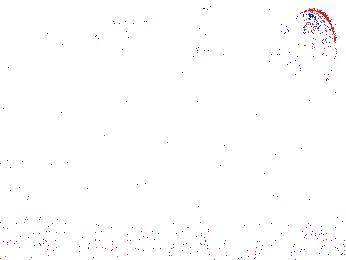moon jellyfish: (235, 40, 332, 119), (274, 8, 338, 100), (112, 12, 165, 97), (174, 1, 241, 62), (136, 19, 194, 75)
